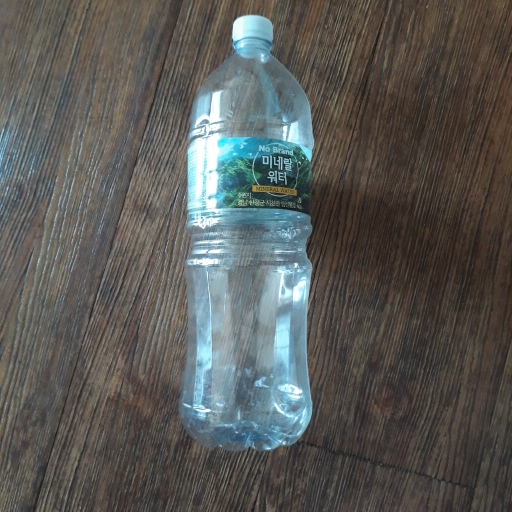Plastic_0: (177, 12, 317, 450)
